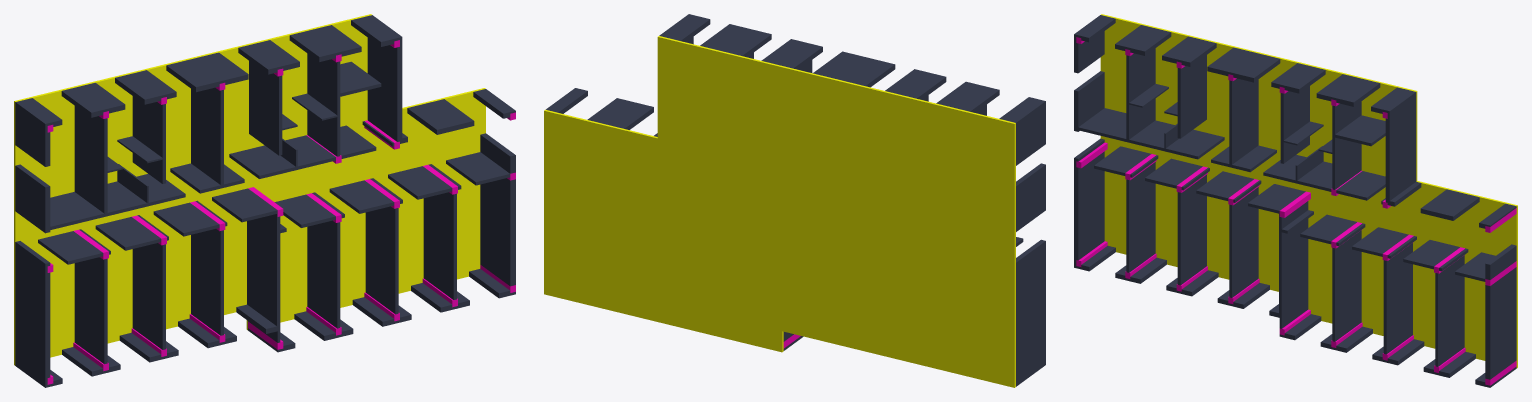
File: cad model.fbx
The picture shows the model from 3 angles, left to right: view 1: azimuth 30°, elevation 25°; view 2: azimuth 150°, elevation 25°; view 3: azimuth 330°, elevation 25°; orthographic projection. The views are drawn at different scales.
Parts seen in each view (by area): view 1: Model_Space; view 2: Model_Space; view 3: Model_Space.
Part boxes in pixels (<box>): Model_Space: <box>14,14,515,387</box>; Model_Space: <box>544,14,1045,387</box>; Model_Space: <box>1074,14,1517,387</box>.
Bounding box in the file's own units: 2910 × 1685 × 335.
